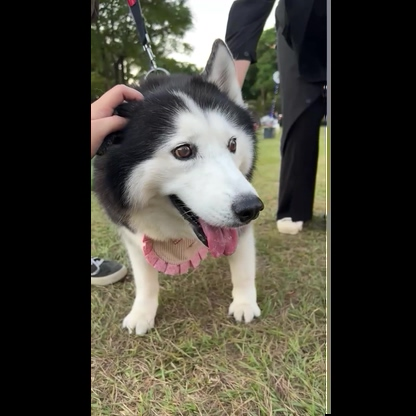husky: (100, 37, 269, 337)
